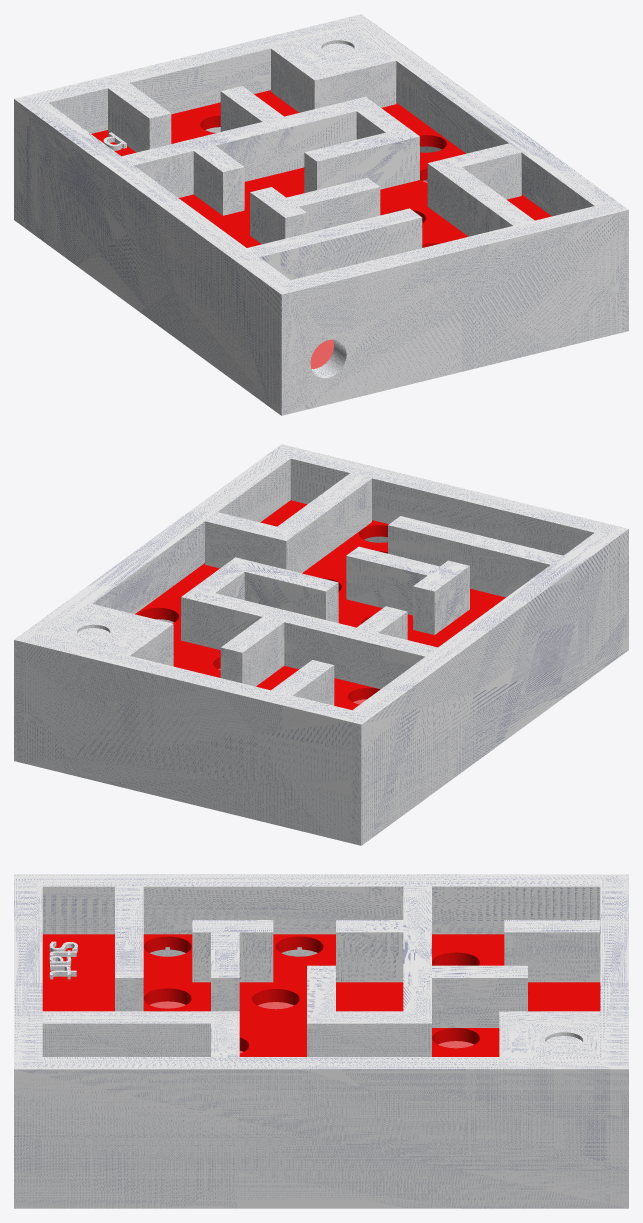
3 renders of one model, top to bottom at view 1: azimuth 30°, elevation 25°; view 2: azimuth 150°, elevation 25°; view 3: azimuth 270°, elevation 25°, orthographic. The views are drawn at different scales.
Visible parts, largest first — view 1: group_6 (×6), group_2 (×2), group_1, group_0, group_4, group_5, SketchUp; view 2: group_6 (×6), group_4, group_1, group_0, group_2, group_5, SketchUp; view 3: group_0, group_6 (×6), group_1, group_5 (×7), group_2, group_4, SketchUp (×2), group_3.
Boxes of the visible parts, x1=… form: group_6 (×6): x1=108, y1=43, x2=534, y2=279; group_2 (×2): x1=280, y1=203, x2=617, y2=412; group_1: x1=14, y1=96, x2=292, y2=415; group_0: x1=351, y1=14, x2=628, y2=333; group_4: x1=25, y1=17, x2=362, y2=133; group_5: x1=91, y1=90, x2=551, y2=247; SketchUp: x1=293, y1=28, x2=383, y2=65; group_6 (×6): x1=80, y1=473, x2=562, y2=705; group_4: x1=25, y1=633, x2=362, y2=842; group_1: x1=350, y1=526, x2=628, y2=845; group_0: x1=14, y1=444, x2=291, y2=763; group_2: x1=280, y1=447, x2=617, y2=555; group_5: x1=135, y1=500, x2=505, y2=709; SketchUp: x1=49, y1=613, x2=138, y2=650; group_0: x1=14, y1=1057, x2=628, y2=1208; group_6 (×6): x1=42, y1=886, x2=600, y2=1056; group_1: x1=14, y1=874, x2=628, y2=965; group_5 (×7): x1=42, y1=934, x2=600, y2=1056; group_2: x1=14, y1=880, x2=42, y2=1063; group_4: x1=600, y1=880, x2=628, y2=1063; SketchUp (×2): x1=528, y1=1023, x2=600, y2=1056; group_3: x1=150, y1=1001, x2=473, y2=1053.
Size of the model in its own units: 6 by 8 by 2.
